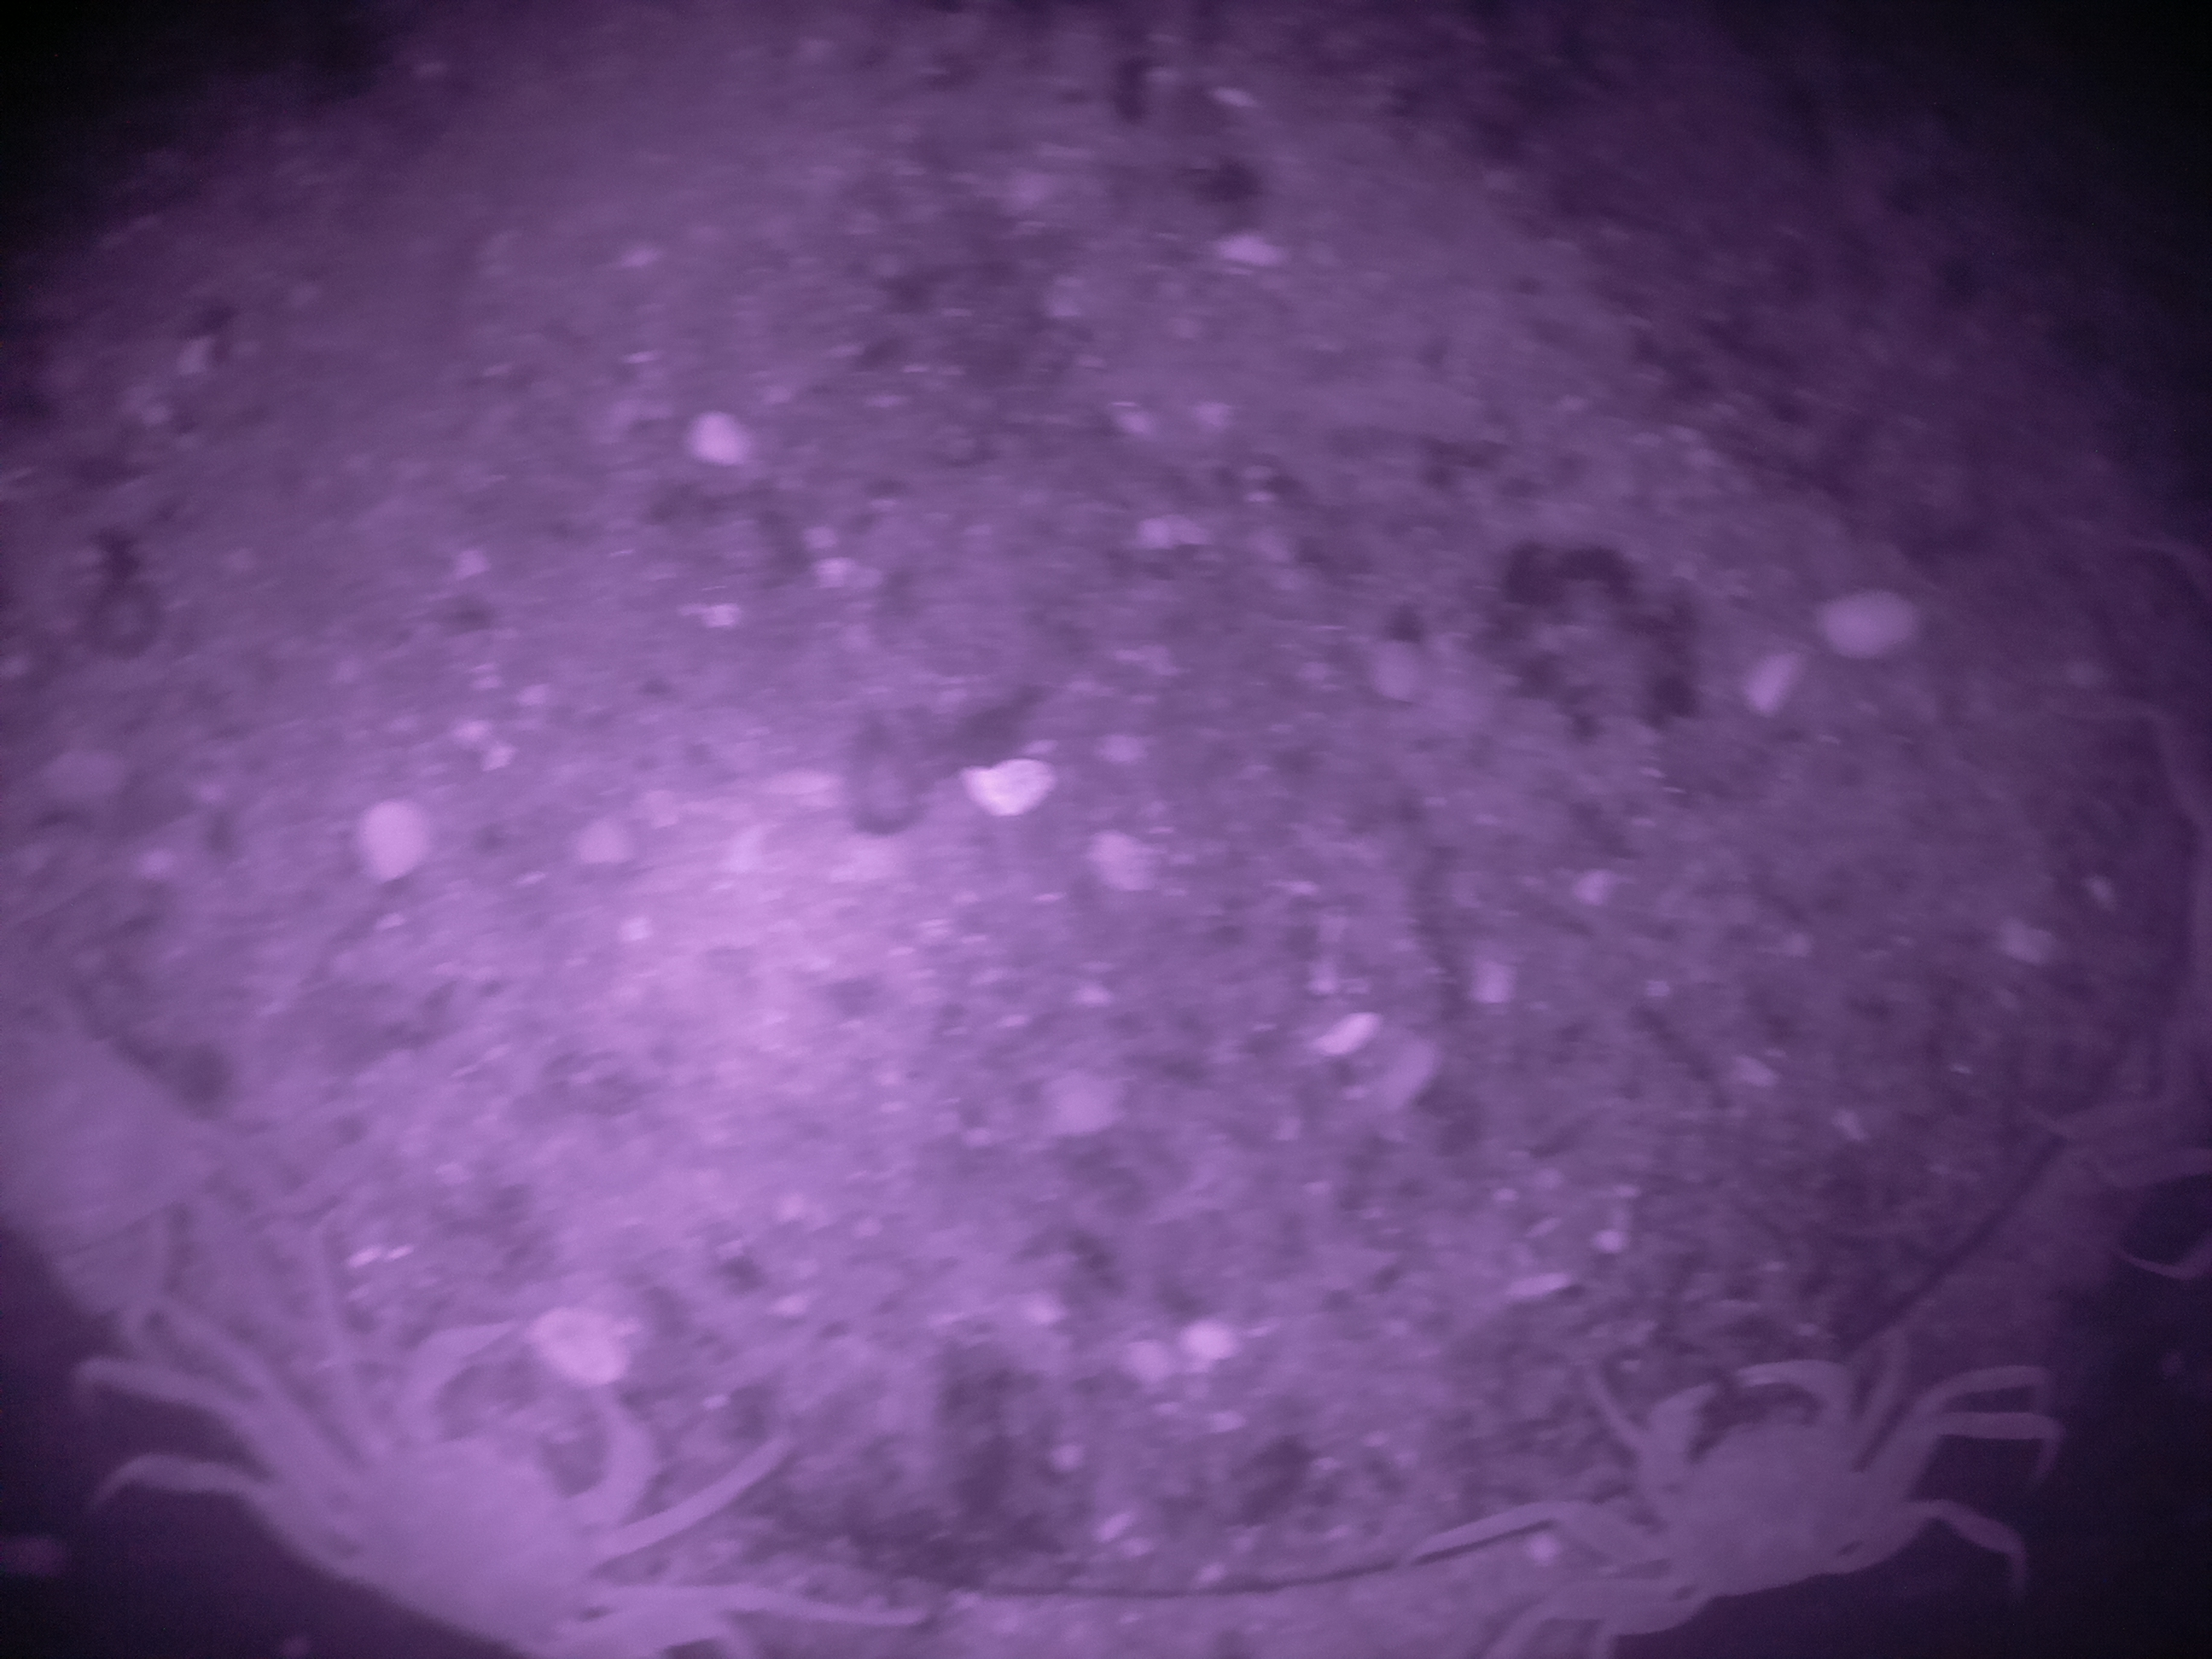Crab: (89, 1284, 850, 1654), (1418, 1303, 2099, 1635)
